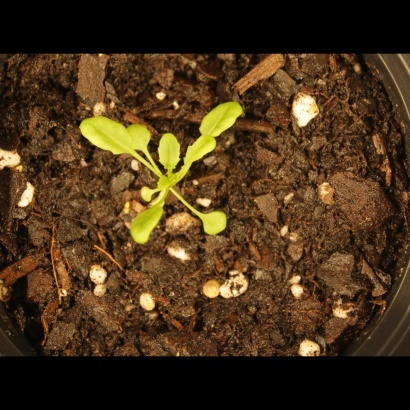leaf: (75, 114, 135, 160), (199, 99, 243, 137), (128, 202, 165, 247), (196, 207, 235, 239), (182, 136, 215, 171), (123, 121, 155, 155), (158, 131, 182, 174), (136, 183, 159, 206)
